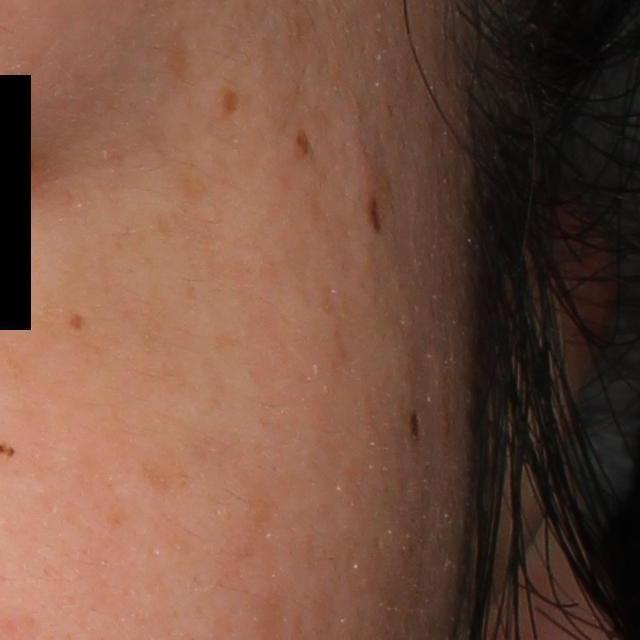melasma: (163, 30, 190, 77), (213, 83, 243, 122)
nevus: (364, 191, 387, 237)
